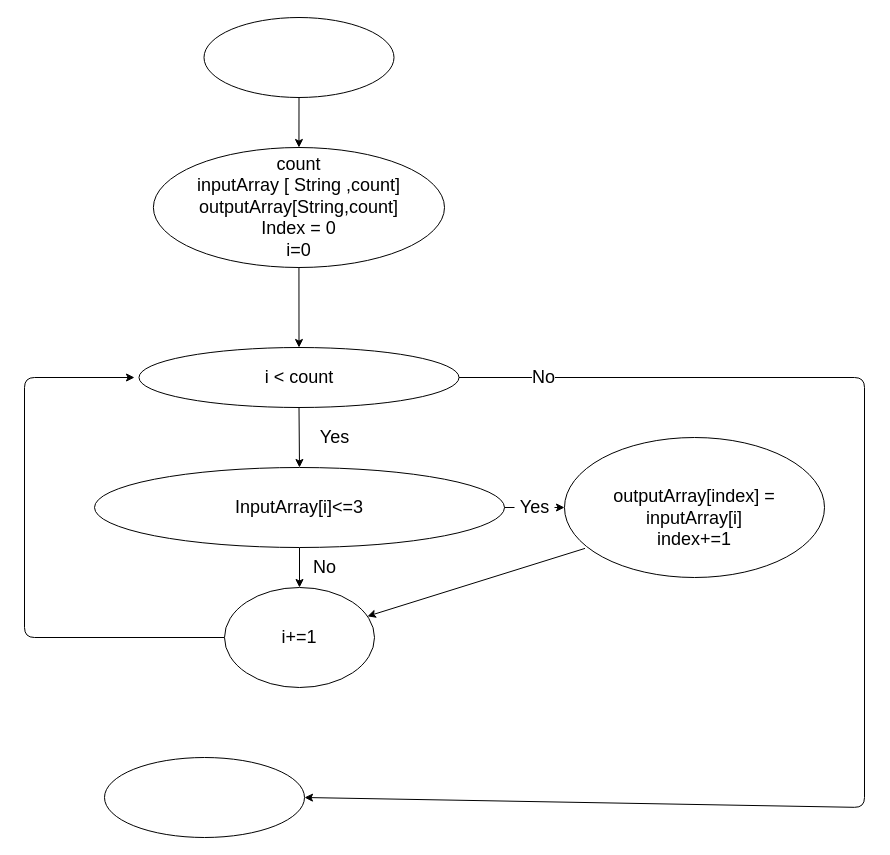
The diagram is 890 pixels wide and 855 high, and some of its shapes have lost their labels. Each missing label, with the centre of its shape:
"Cтарт" goes at (298,57).
"Окончание" goes at (204,797).
